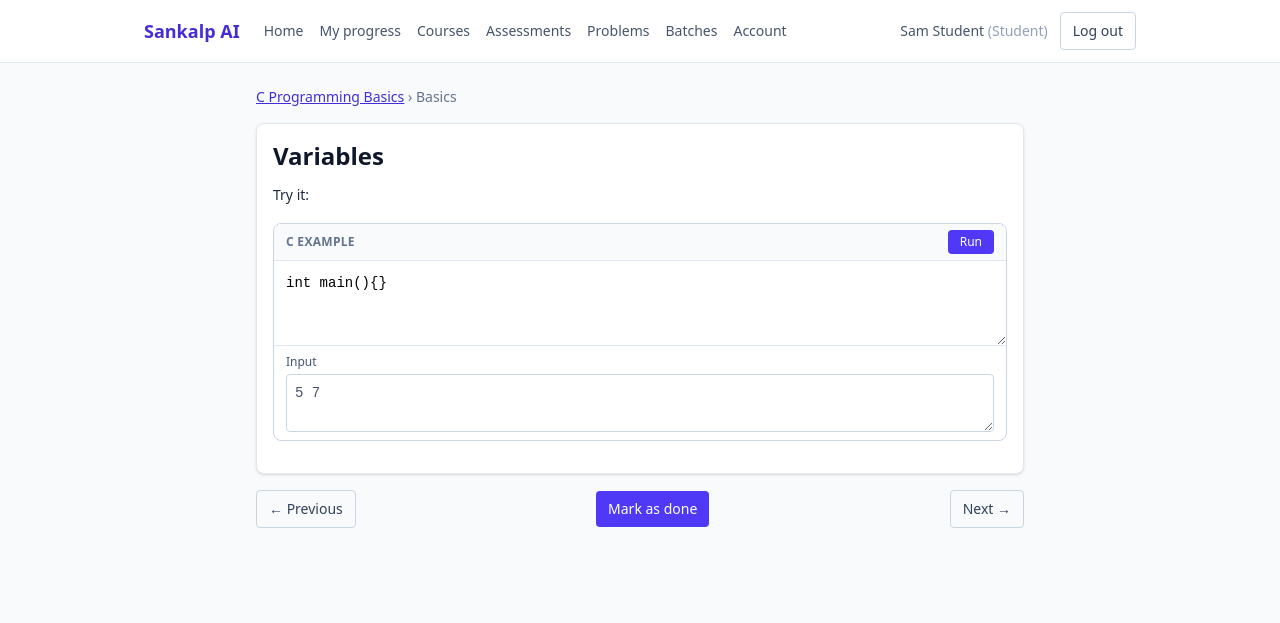
Test case: lesson page › runnable examples › runs the example with its default input and shows the output
Expected: the text box named "Example input" holds "5 7", [286,374,994,432]
Click the button "Run": (971, 242) [948,230,994,254]
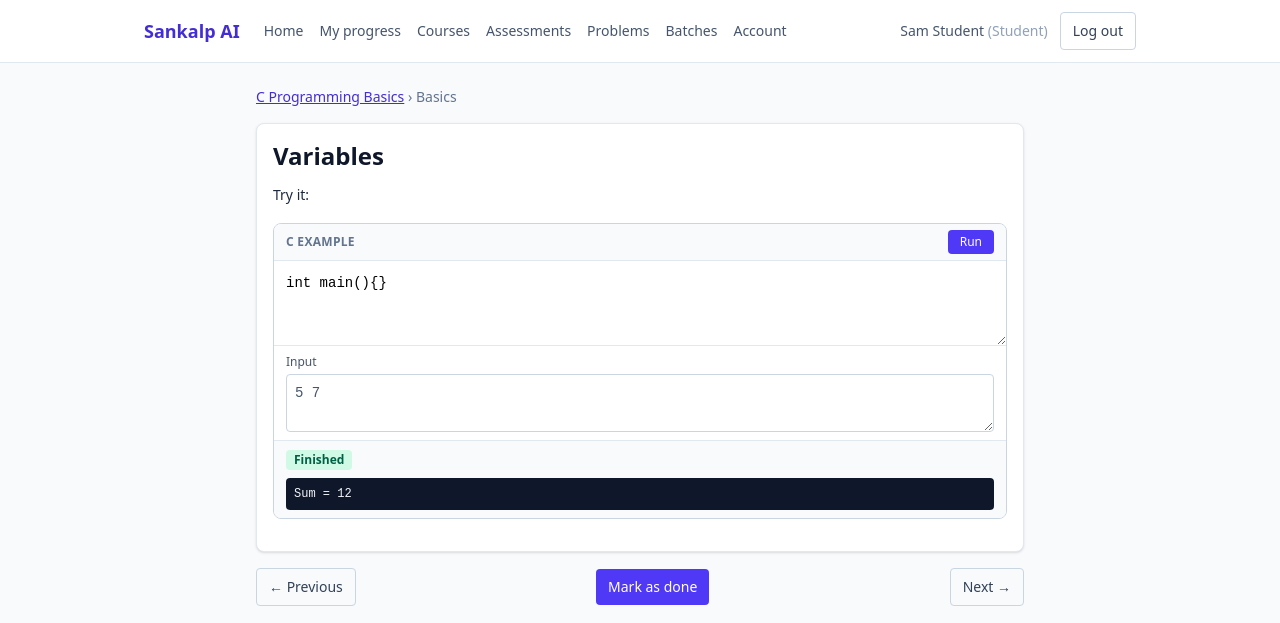
Expected: the text "Sum = 12" is shown, [286,478,994,510]
